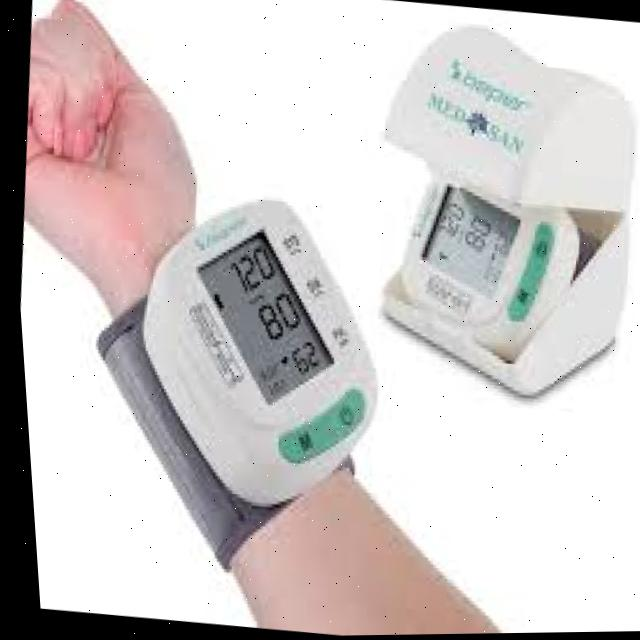dia: (246, 285, 304, 345)
pul: (278, 336, 325, 386)
ssd: (192, 231, 332, 405)
sys: (219, 237, 282, 301)
